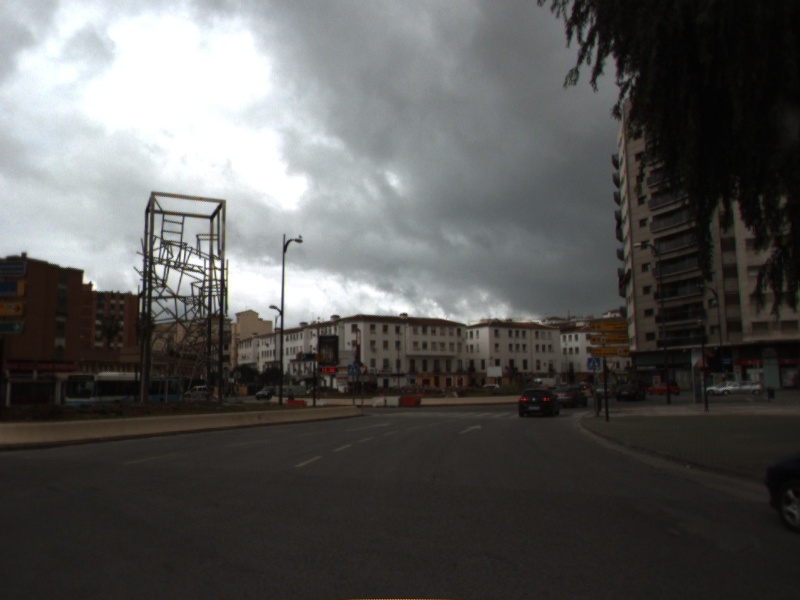STRAIGHT: (456, 423, 485, 436)
